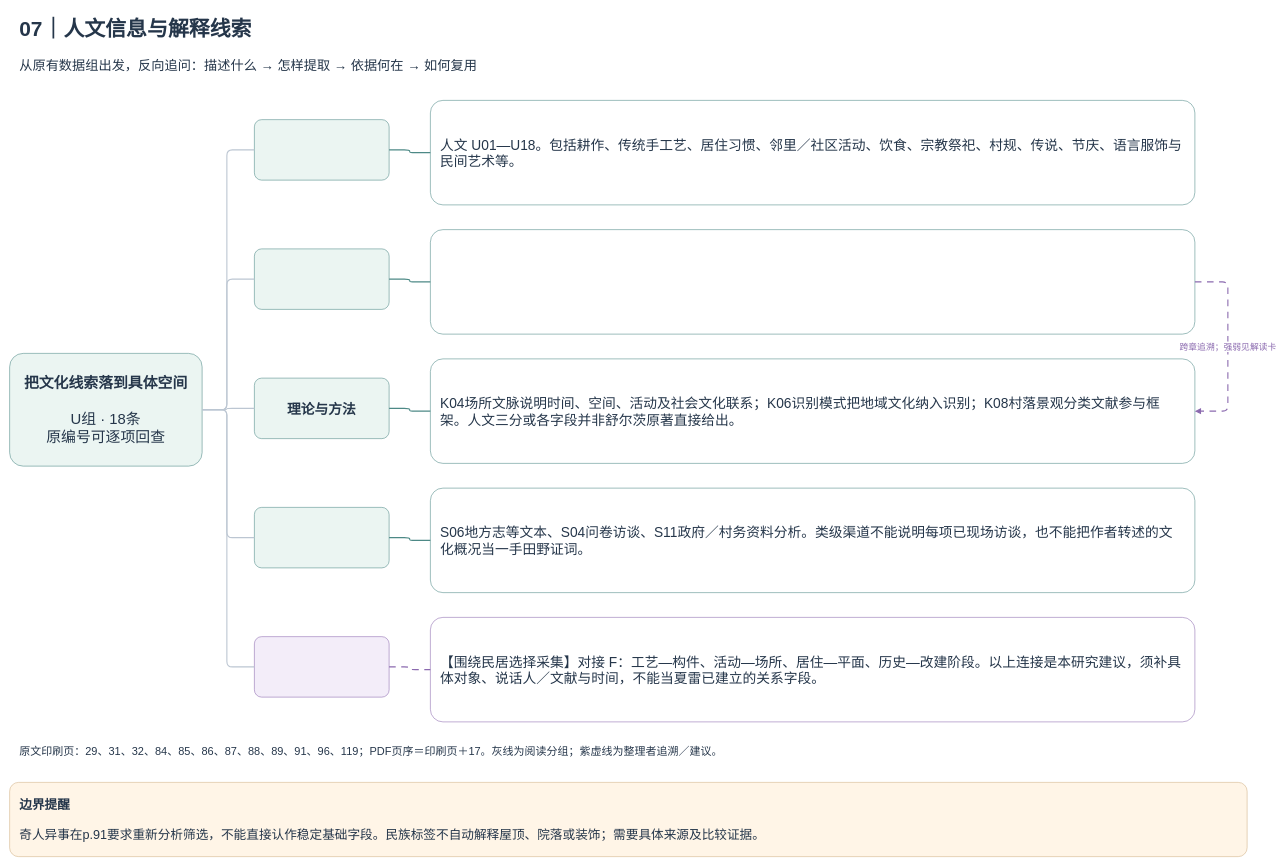
Image size: 1286x866. Some labels were removed from this diagram. Each missing label, with the centre of its shape:
"图4-2以文本、图案、元素、结构、勘察感知、入户访谈等作识别；表4-2给人文编码；图4-10将文档与图片整理成人文框架。无法简写的内容保留文字描述。" goes at point (812, 281).
"我们怎样复用" goes at point (321, 666).
"数据与特征" goes at point (321, 149).
"识别与整理" goes at point (321, 278).
"资料从哪里来" goes at point (321, 537).
